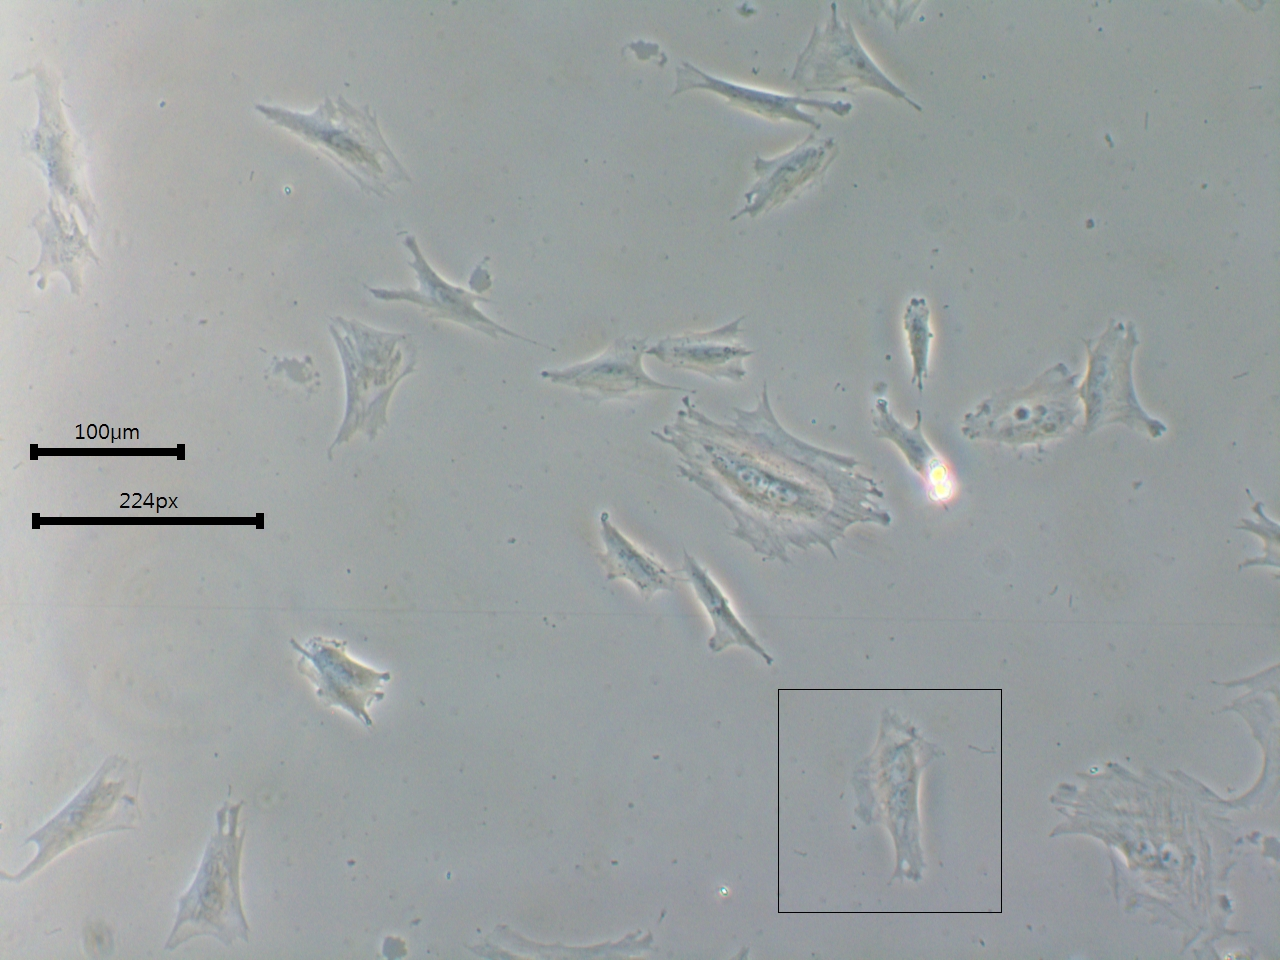dividing: (1041, 749, 1274, 953), (648, 389, 912, 560), (838, 704, 972, 885)
medium-polygonal: (367, 229, 561, 363), (1, 746, 152, 894), (252, 86, 417, 211), (653, 56, 854, 137), (676, 534, 784, 681), (271, 626, 394, 744), (790, 23, 932, 124), (171, 793, 256, 957), (538, 328, 700, 406), (740, 139, 856, 233), (647, 318, 781, 385)
medium-spread: (1071, 316, 1195, 458), (318, 311, 426, 466), (961, 364, 1091, 462)
small-polygonal: (586, 510, 686, 609), (878, 287, 948, 395)
